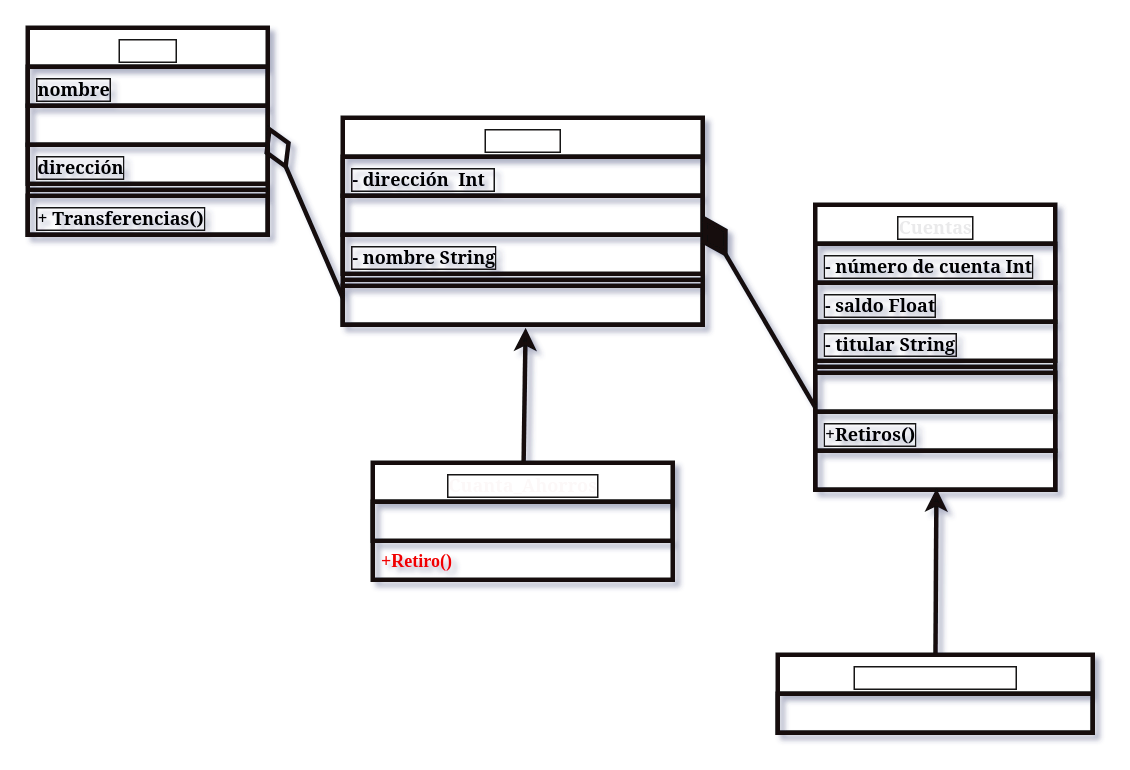
This 1130x770 diagram has some shape labels left out. Here are the shapes that lost their labels. From the top down, the centre of each, then its label:
At point (147, 124): "código del banco".
At point (522, 214): "- número de identificación Int".
At point (522, 304): "+ transacciones()".
At point (934, 391): "+Deposito_De_Dinero()".
At point (934, 469): "+Consulta_De_Datos()".
At point (522, 520): "- cantidad de retiros float".
At point (934, 712): "-limite float".
